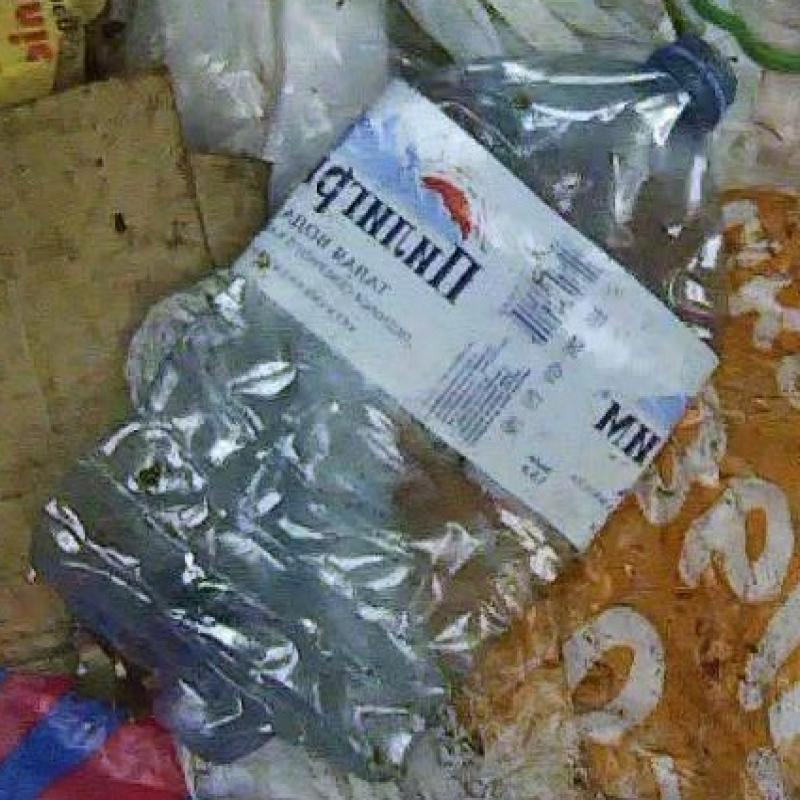botella: (53, 38, 747, 758)
